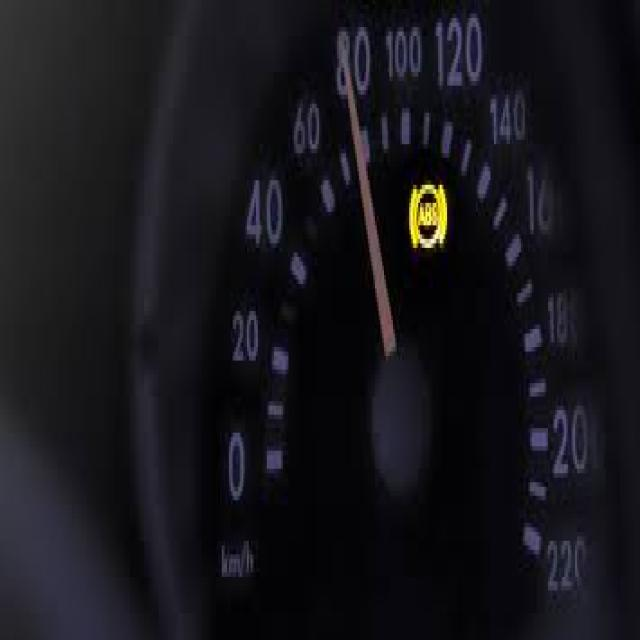kontrolka: (407, 172, 452, 257)
